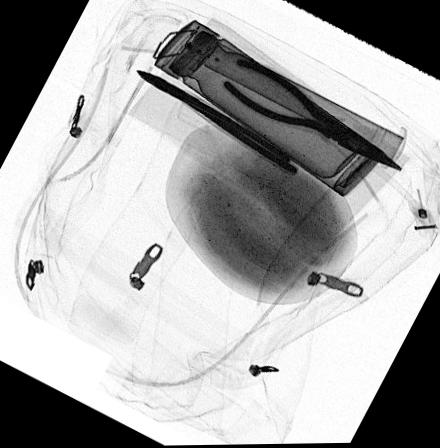Pliers: (222, 58, 404, 174), (134, 69, 302, 176)
